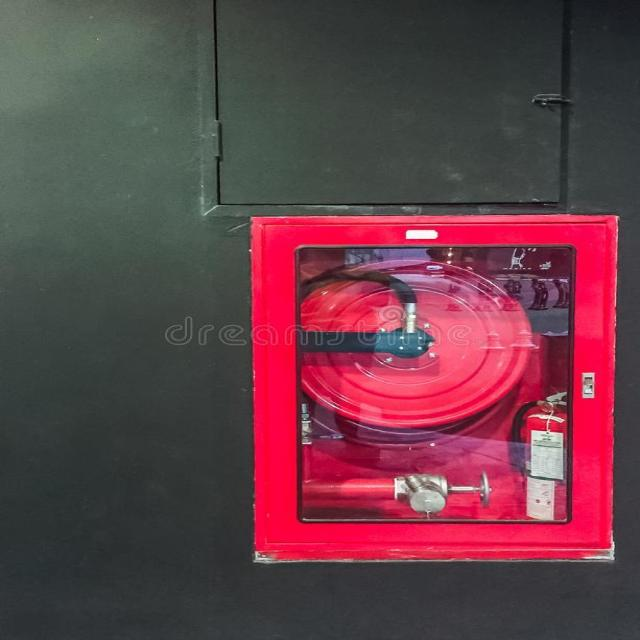fire_extinguisher: (500, 382, 594, 534)
